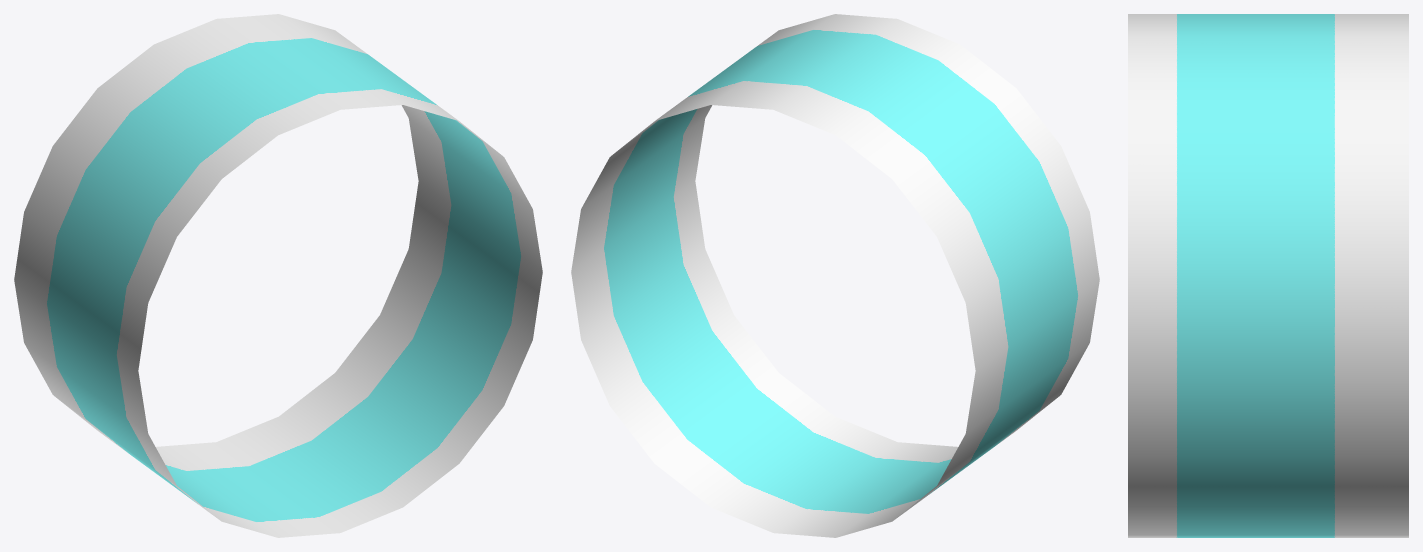
File: Male_trex_scream_ring.fbx
3 renders of one model, left to right at view 1: azimuth 30°, elevation 25°; view 2: azimuth 150°, elevation 25°; view 3: azimuth 270°, elevation 25°, orthographic. The views are drawn at different scales.
Parts seen in each view (by area): view 1: Male_trex_scream_ring; view 2: Male_trex_scream_ring; view 3: Male_trex_scream_ring.
Part boxes in pixels (x1,y1,x2,y2): Male_trex_scream_ring: (14,14,542,537); Male_trex_scream_ring: (571,14,1099,537); Male_trex_scream_ring: (1128,14,1408,537).
Bounding box in the file's own units: 0.2164 × 0.2164 × 0.1151.
